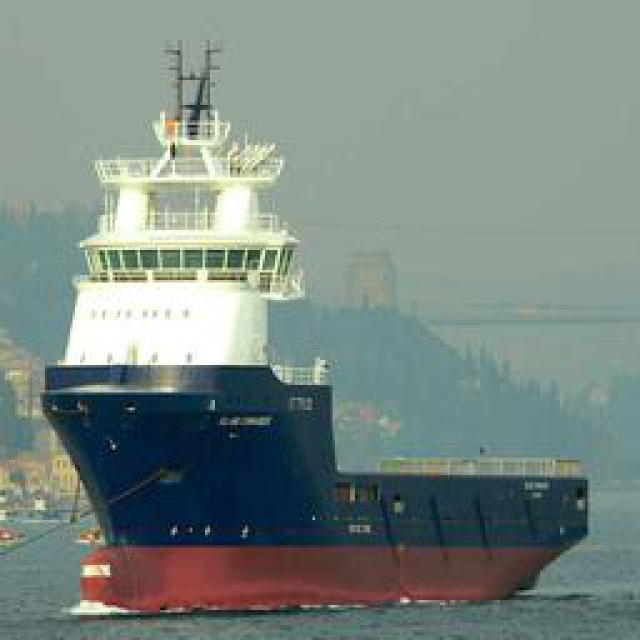Ship: (38, 162, 596, 600)
